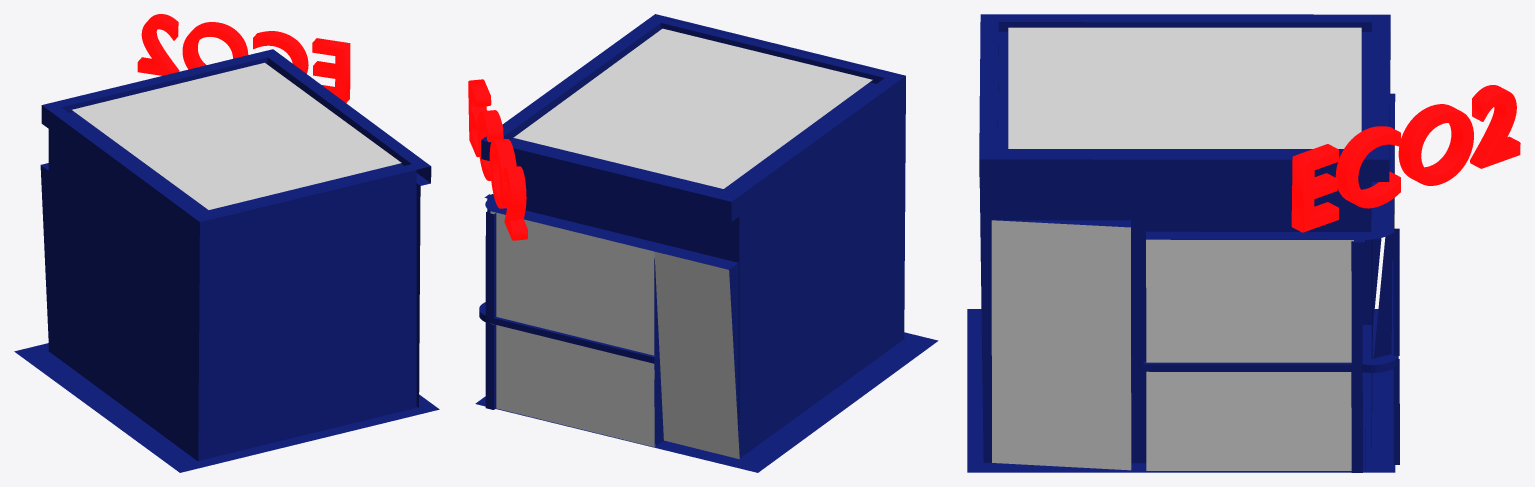
The model's file is eco2.glb.
3 views of the same model, side by side, from view 1: azimuth 30°, elevation 25°; view 2: azimuth 150°, elevation 25°; view 3: azimuth 270°, elevation 25° (orthographic). The views are drawn at different scales.
Visible parts, largest first — view 1: Plane, structure, ad_screen_07, Plane.002, ECO2_SignText, wall, wall_covers; view 2: structure, ad_screen_07, ad_screen_04, ad_screen_06, ad_screen_05, wall, Plane.002, ECO2_SignText, wall_covers, boundary; view 3: ad_screen_07, ad_screen_03, ad_screen_01, structure, wall, ad_screen_02, ECO2_SignText, Plane.002, boundary, wall_covers.
Part boxes in pixels (x1,y1,x2,y2): Plane: (198, 167, 416, 460); structure: (41, 49, 431, 461); ad_screen_07: (72, 62, 401, 209); Plane.002: (14, 343, 439, 472); ECO2_SignText: (137, 14, 350, 102); wall: (416, 183, 420, 407); wall_covers: (40, 163, 48, 337); structure: (481, 14, 905, 457); ad_screen_07: (513, 28, 872, 188); ad_screen_04: (490, 211, 654, 355); ad_screen_06: (654, 251, 739, 459); ad_screen_05: (490, 323, 655, 446); wall: (523, 171, 739, 442); Plane.002: (475, 332, 938, 472); ECO2_SignText: (468, 79, 527, 240); wall_covers: (484, 194, 738, 446); boundary: (479, 194, 657, 409); ad_screen_07: (1008, 27, 1361, 148); ad_screen_03: (991, 220, 1131, 470); ad_screen_01: (1146, 239, 1353, 362); structure: (979, 14, 1390, 468); wall: (979, 181, 1372, 463); ad_screen_02: (1146, 371, 1351, 470); ECO2_SignText: (1291, 85, 1520, 232); Plane.002: (967, 309, 1395, 472); boundary: (1143, 228, 1399, 472); wall_covers: (998, 93, 1395, 358).
Bounding box in the file's own units: 4.36 × 3.62 × 5.38.
